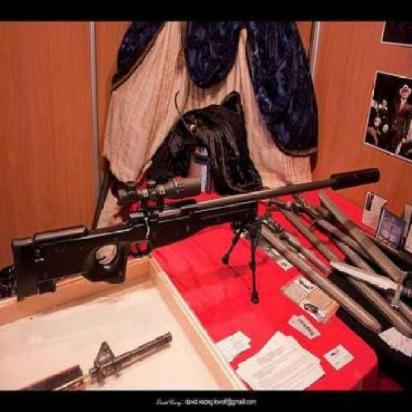Gun: (10, 168, 381, 288)
